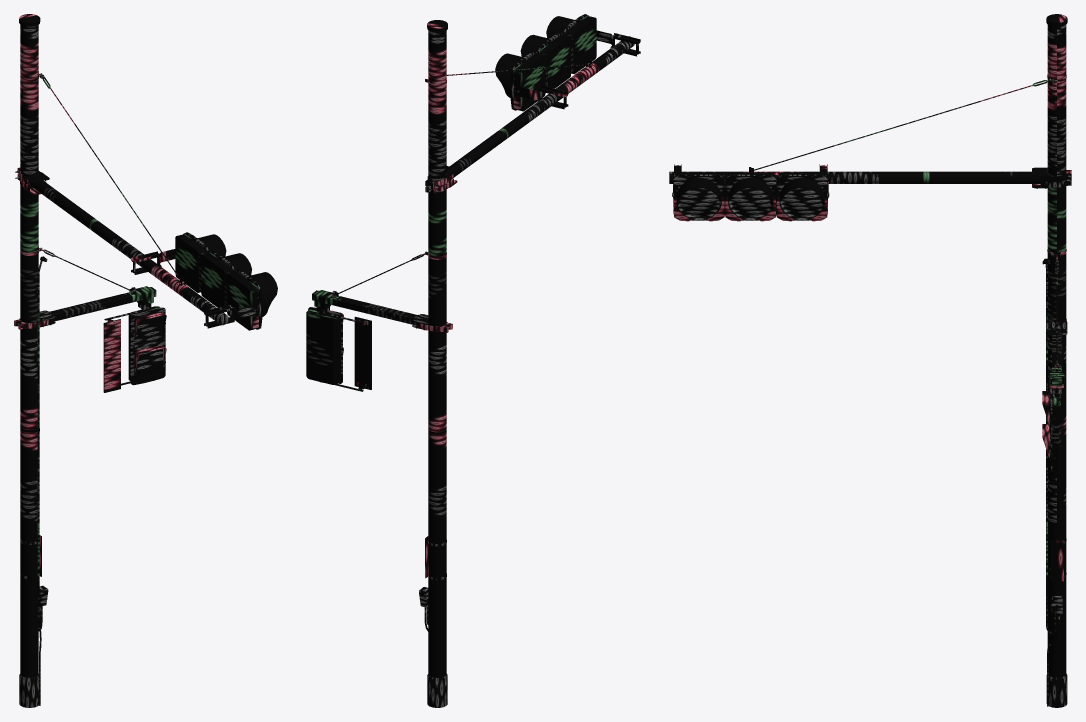
The model's file is traffic_light-1.FBX.
3 views of the same model, side by side, from view 1: azimuth 30°, elevation 25°; view 2: azimuth 150°, elevation 25°; view 3: azimuth 270°, elevation 25° (orthographic).
Parts seen in each view (by area): view 1: traffic_light; view 2: traffic_light; view 3: traffic_light.
Part boxes in pixels (x1,y1,x2,y2): traffic_light: [14, 14, 277, 707]; traffic_light: [306, 14, 640, 707]; traffic_light: [669, 14, 1071, 707].
Size of the model in its own units: 63.12 by 280 by 149.
